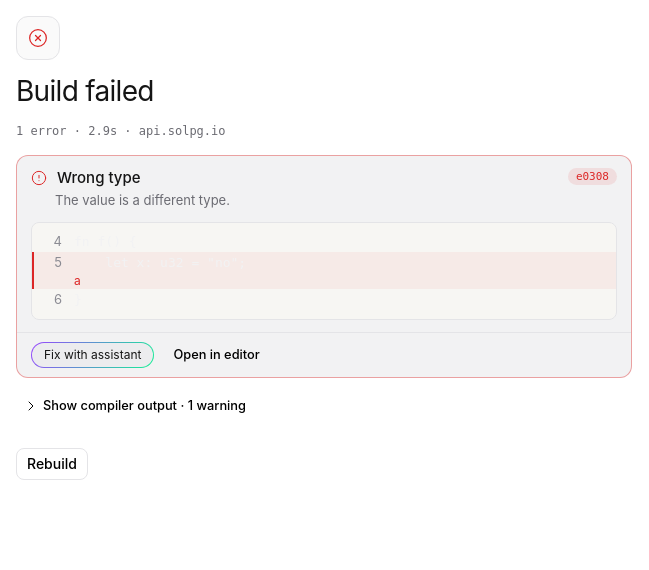
Test: BaseBuild › folds the compiler's output away until asked
Expected: the text "warning: unused" is not shown
Click the button "Show compiler output · 1 warning". click: (136, 406)
box: [16,392,257,420]
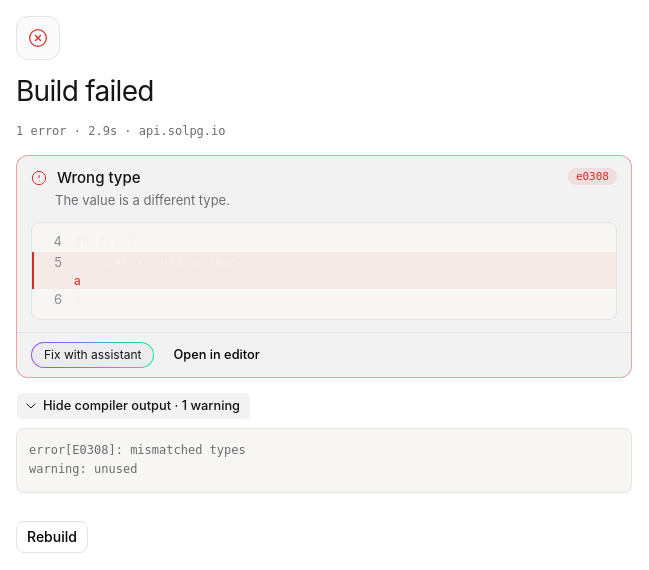
Now the button "Hide compiler output · 1 warning" is expanded, box [16,392,251,420]
Now the text "error[E0308]: mismatched types warning: unused" is shown, box [16,428,632,492]
